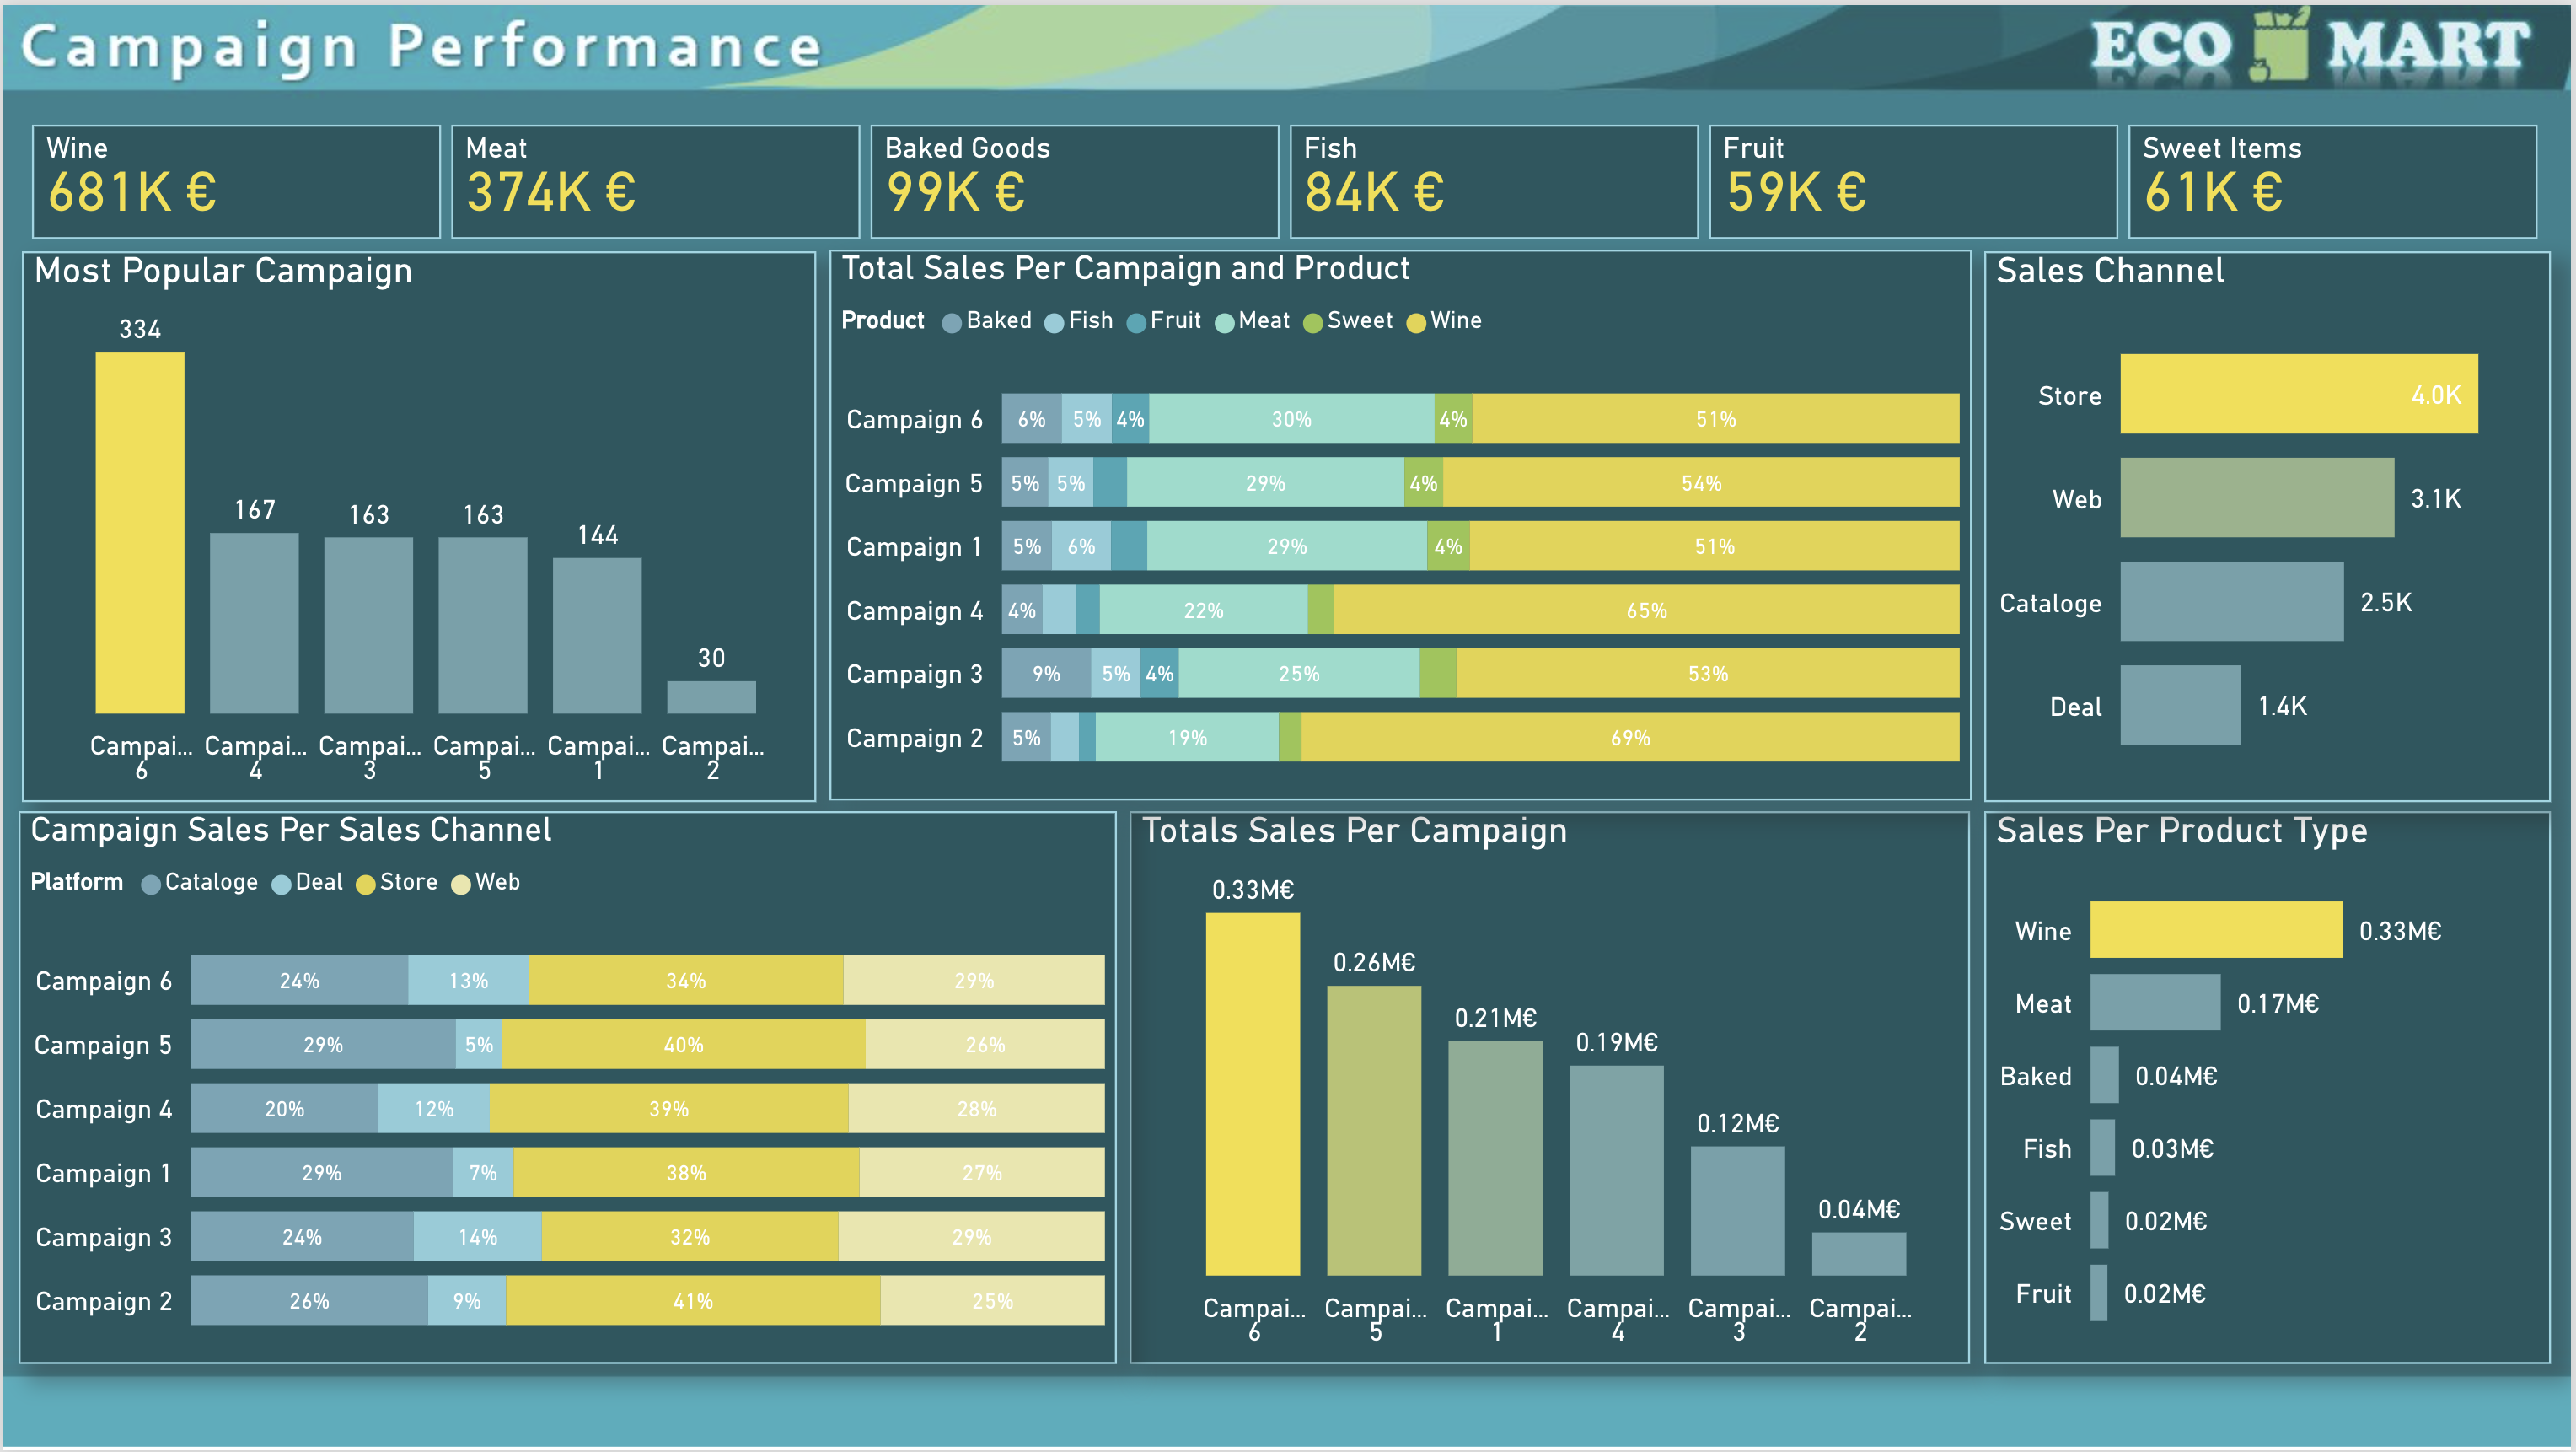

The page's visual inventory and layout, read from the dashboard file:
{"tool":"powerbi","page":{"name":"Campaign Performance","canvas":[1280,720],"ordinal":0},"visuals":[{"type":"columnChart","title":"Most Popular Campaign","fields":{"Category":["campaing.Campaing"],"Y":["Sum(campaing.Accepted_Ind)"]},"box":[9.3,122.8,396.1,274.4],"z":0},{"type":"columnChart","title":"Totals Sales Per Campaign","fields":{"Category":["campaing.Campaing"],"Y":["Sum(products.Total Sales)"]},"box":[561.1,401.3,418.8,275.4],"z":1000},{"type":"hundredPercentStackedBarChart","title":"Total Sales Per Campaign and Product","fields":{"Y":["Sum(products.Total Sales)"],"Category":["campaing.Campaing"],"Series":["products.Product"]},"box":[411.6,121.7,569.4,274.4],"z":2000},{"type":"barChart","title":"Sales Per Product Type","fields":{"Y":["Sum(products.Total Sales)"],"Category":["products.Product"]},"box":[987.2,401.3,282.6,275.4],"z":3000},{"type":"hundredPercentStackedBarChart","title":"Campaign Sales Per Sales Channel","fields":{"Series":["platform.Platform"],"Category":["campaing.Campaign"],"Y":["Sum(platform.Oty)"]},"box":[7.2,401.3,547.7,275.4],"z":4000},{"type":"barChart","title":"Sales Channel","fields":{"Category":["platform.Platform"],"Y":["Sum(platform.Oty)"]},"box":[987.2,122.8,282.6,274.4],"z":5000},{"type":"cardVisual","fields":{"Data":["Sum(marketmindz_research_data.Amount_Wine_Products)","Sum(marketmindz_research_data.Amount_Meat_Products)","Sum(marketmindz_research_data.Amount_Baked_Products)","Sum(marketmindz_research_data.Amount_Fish_Products)","Sum(marketmindz_research_data.Amount_Fruit_Products)","Sum(marketmindz_research_data.Amount_Sweet_Products)"]},"box":[9.3,54.7,1260.5,67],"z":6000}]}

Visuals, with their boxes in screenshot pixels (x1, y1, x2, y2), scaled from the page's 1280x720 canvas onto the 2576x1452 screenshot:
"Most Popular Campaign" columnChart: locate(19, 248, 816, 801)
"Totals Sales Per Campaign" columnChart: locate(1130, 809, 1972, 1364)
"Total Sales Per Campaign and Product" hundredPercentStackedBarChart: locate(829, 245, 1974, 799)
"Sales Per Product Type" barChart: locate(1987, 809, 2556, 1364)
"Campaign Sales Per Sales Channel" hundredPercentStackedBarChart: locate(14, 809, 1117, 1364)
"Sales Channel" barChart: locate(1987, 248, 2556, 801)
cardVisual - Sum(marketmindz_research_data.Amount_Wine_Products) x Sum(marketmindz_research_data.Amount_Meat_Products): locate(19, 110, 2556, 245)
